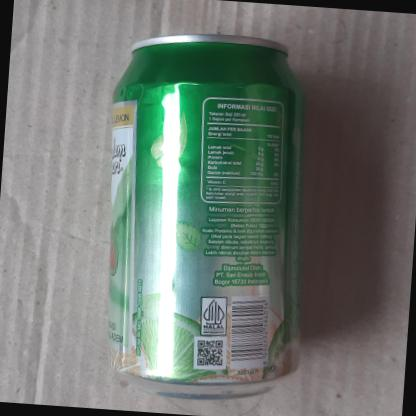alumunium_can: (87, 0, 334, 405)
